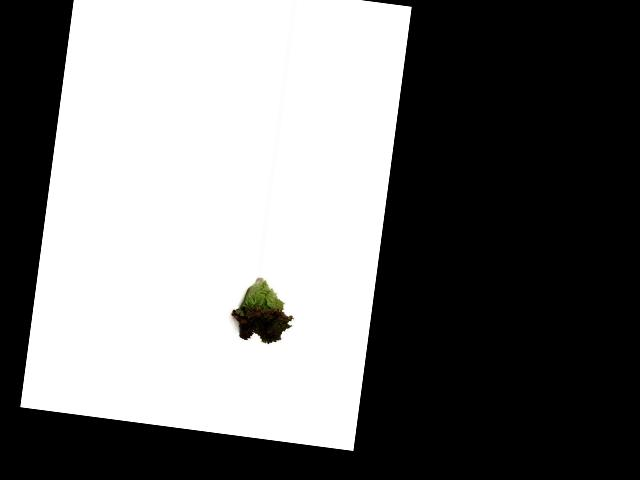lettuce: (221, 272, 300, 354)
